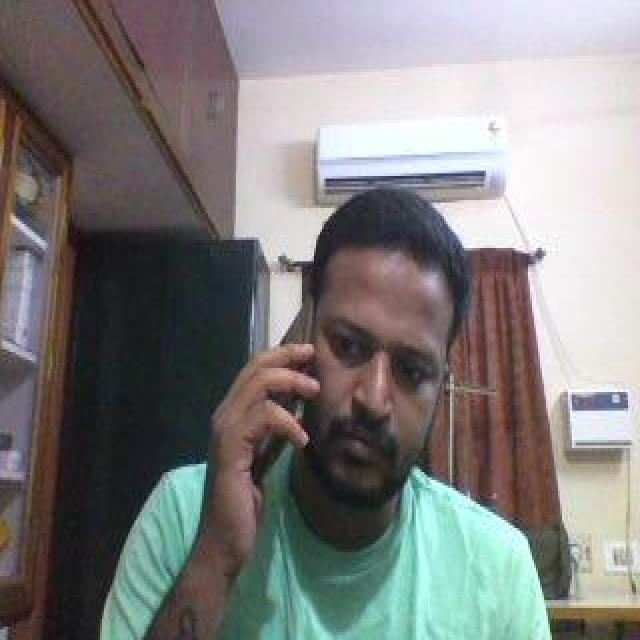phone: (253, 295, 313, 468)
